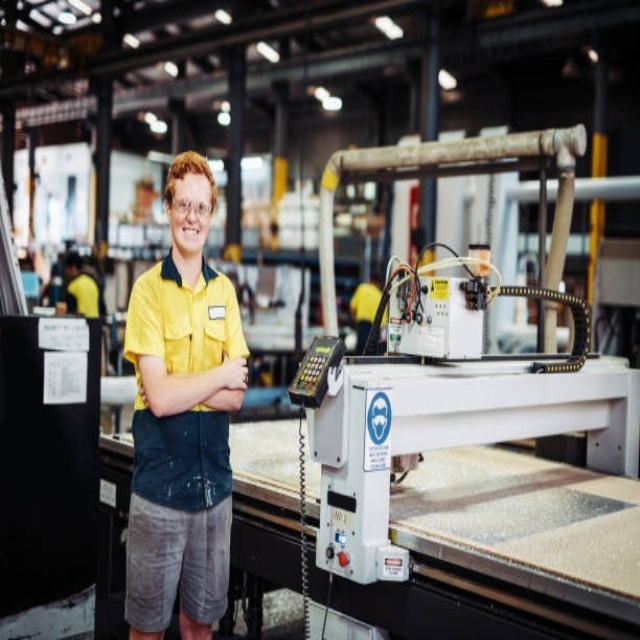Gafas: (170, 194, 213, 219)
Sin_guantes: (214, 355, 252, 392)
Sin_mascara: (179, 223, 203, 249)
